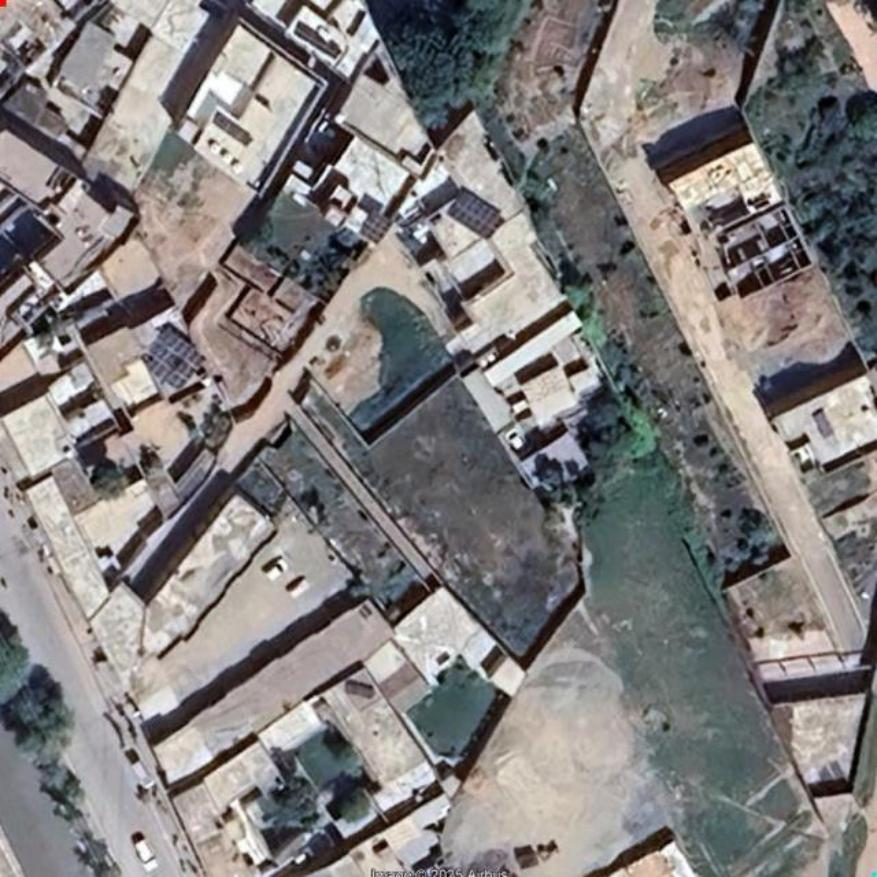Solarpanel: (139, 327, 203, 392), (448, 189, 501, 236)
